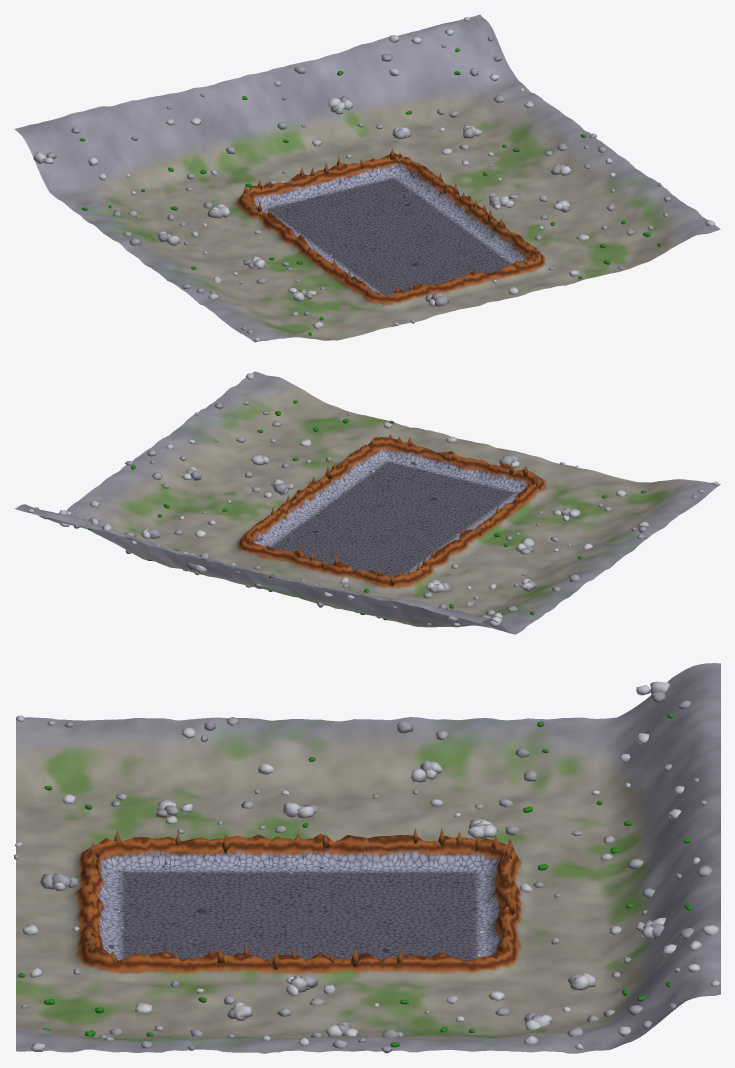
Rendered from surroundings_13x23.glb.
3 views of the same model, one above another, from view 1: azimuth 30°, elevation 25°; view 2: azimuth 150°, elevation 25°; view 3: azimuth 270°, elevation 25° (orthographic). The views are drawn at different scales.
Parts seen in each view (by area): view 1: ground, props; view 2: ground, props; view 3: ground, props.
Boxes of the visible parts, box(x1,y1,x2,y2) form: ground: box(14, 14, 720, 342); props: box(33, 17, 715, 341); ground: box(14, 371, 720, 634); props: box(27, 373, 718, 628); ground: box(16, 663, 720, 1053); props: box(14, 681, 720, 1053).
Size of the model in its own units: 57.32 by 7.64 by 51.15.
2 materials, 2 textured.
